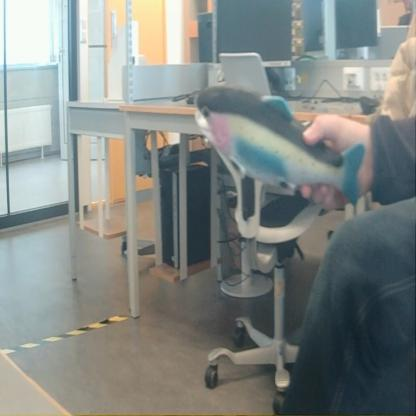rubberfish: (188, 74, 366, 214)
